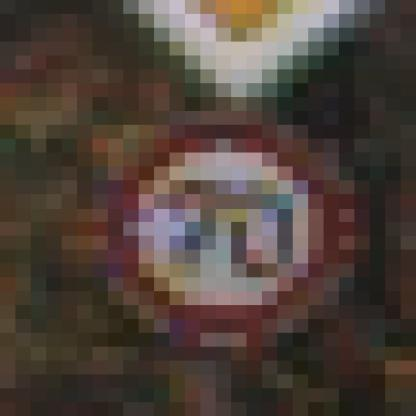Speed Limit 70: (113, 118, 349, 339)
